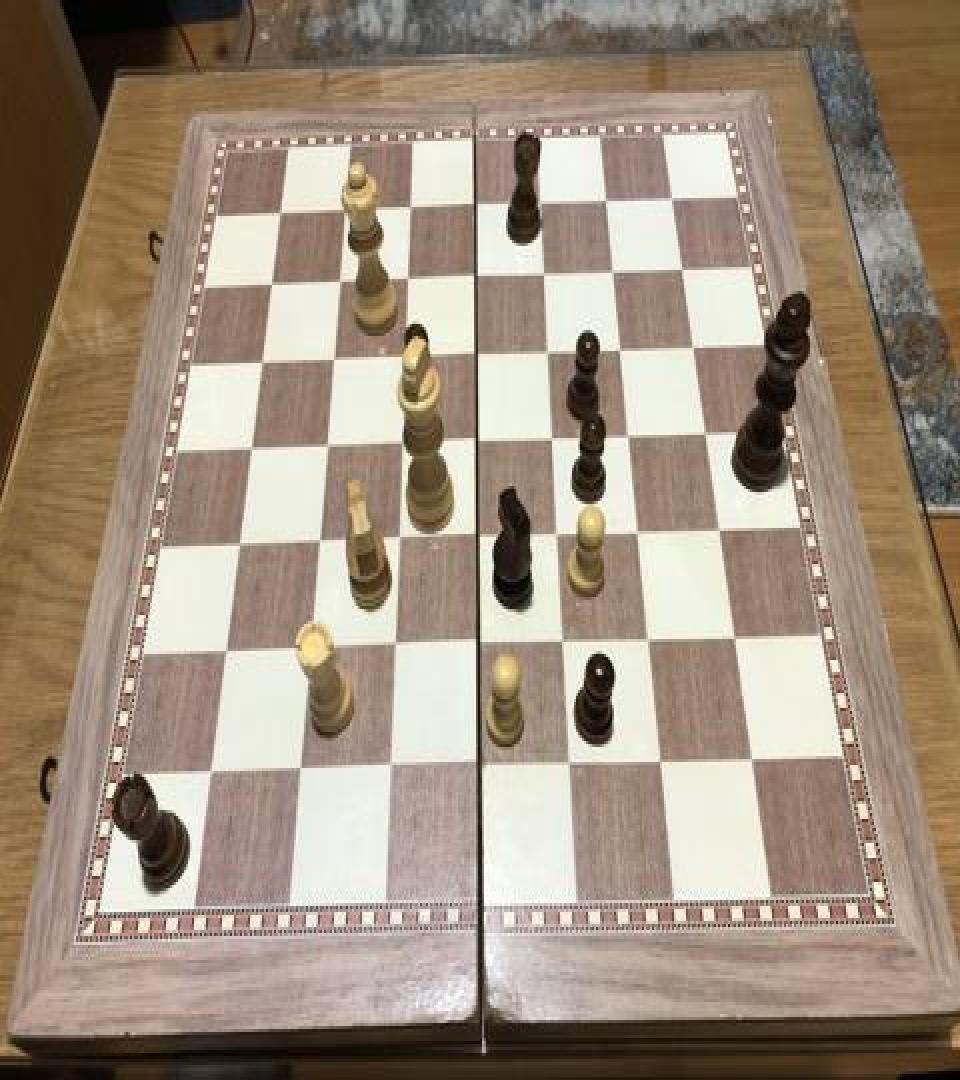xcorner: (547, 514, 571, 551), (551, 622, 575, 659), (466, 625, 490, 662), (211, 631, 235, 668), (648, 742, 672, 779), (193, 754, 217, 791), (663, 182, 687, 218), (598, 183, 622, 219), (532, 186, 556, 222), (403, 190, 427, 226), (338, 192, 362, 228), (273, 195, 297, 231), (672, 250, 696, 286), (604, 254, 628, 290), (535, 255, 559, 291), (467, 258, 491, 294), (331, 262, 355, 298), (263, 264, 287, 300), (611, 330, 635, 366), (539, 333, 563, 369), (467, 334, 491, 370), (395, 338, 419, 374), (324, 339, 348, 375), (252, 342, 276, 378), (695, 414, 719, 450), (619, 417, 643, 453), (542, 418, 566, 454), (467, 422, 491, 458), (391, 423, 415, 459), (315, 426, 339, 462), (240, 428, 264, 464), (708, 510, 732, 546), (627, 512, 651, 548), (466, 518, 490, 554), (386, 519, 410, 555), (306, 522, 330, 558), (226, 524, 250, 560), (723, 618, 747, 654), (637, 621, 661, 657), (381, 627, 405, 663), (296, 630, 320, 666), (740, 741, 764, 777), (556, 746, 580, 782), (465, 747, 489, 783), (374, 750, 398, 786), (284, 752, 308, 788), (467, 188, 491, 223), (399, 260, 423, 295), (683, 329, 707, 364)
